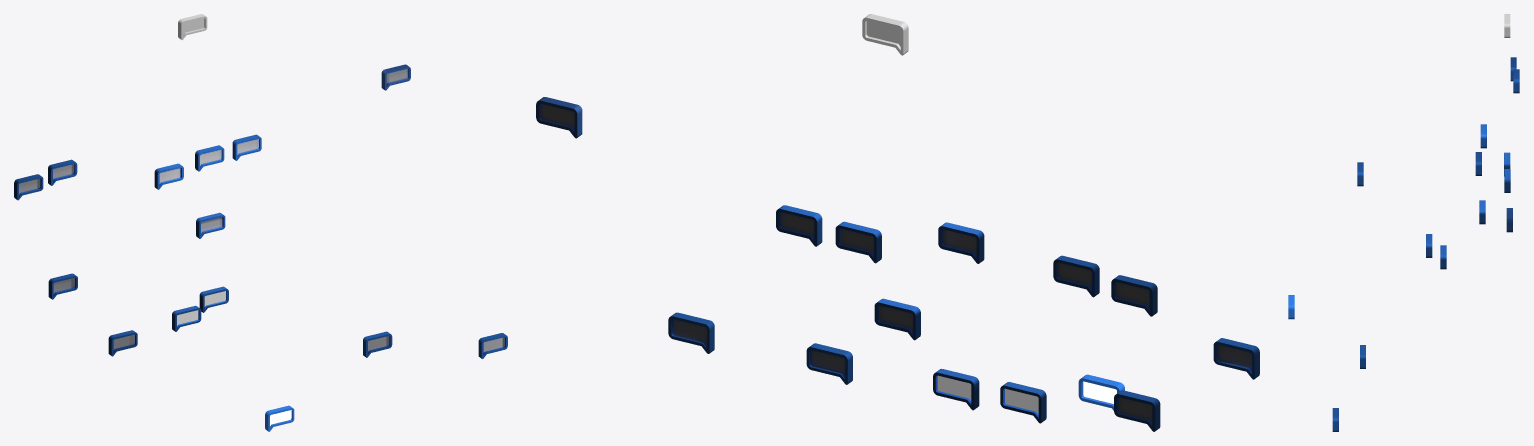
File: pop_up_spotify.glb
The picture shows the model from 3 angles, left to right: view 1: azimuth 30°, elevation 25°; view 2: azimuth 150°, elevation 25°; view 3: azimuth 270°, elevation 25°; orthographic projection. The views are drawn at different scales.
Parts seen in each view (by area): view 1: pop_up_games, pop_up_languages, pop_up_spotify, pop_up_books, pop_up_development, pop_up_social_networks, pop_up_movies, pop_up_running, pop_up_share_knowledge, pop_up_art, pop_up_photography_right, pop_up_stereoscopy (+3 smaller); view 2: pop_up_stereoscopy, pop_up_languages, pop_up_art, pop_up_spotify, pop_up_contact_me, pop_up_travel, pop_up_photography_left, pop_up_books, pop_up_photography_right, pop_up_share_knowledge, pop_up_games, pop_up_development (+3 smaller); view 3: no part large enough to name.
Boxes of the visible parts, left/top/right/bottom form: pop_up_games: left=108, top=330, right=137, bottom=356; pop_up_languages: left=381, top=64, right=410, bottom=90; pop_up_spotify: left=48, top=273, right=77, bottom=299; pop_up_books: left=232, top=134, right=261, bottom=160; pop_up_development: left=196, top=212, right=225, bottom=238; pop_up_social_networks: left=154, top=163, right=183, bottom=189; pop_up_movies: left=195, top=145, right=224, bottom=171; pop_up_running: left=265, top=405, right=294, bottom=431; pop_up_share_knowledge: left=363, top=331, right=392, bottom=357; pop_up_art: left=14, top=174, right=43, bottom=200; pop_up_photography_right: left=478, top=333, right=507, bottom=358; pop_up_stereoscopy: left=199, top=286, right=228, bottom=312; pop_up_stereoscopy: left=933, top=368, right=979, bottom=410; pop_up_languages: left=536, top=97, right=582, bottom=138; pop_up_art: left=1111, top=275, right=1157, bottom=316; pop_up_spotify: left=1114, top=390, right=1160, bottom=431; pop_up_contact_me: left=1000, top=382, right=1046, bottom=423; pop_up_travel: left=862, top=14, right=908, bottom=55; pop_up_photography_left: left=1053, top=255, right=1099, bottom=297; pop_up_books: left=776, top=205, right=822, bottom=246; pop_up_photography_right: left=668, top=312, right=714, bottom=353; pop_up_share_knowledge: left=806, top=343, right=852, bottom=384; pop_up_games: left=1213, top=338, right=1259, bottom=379; pop_up_development: left=874, top=298, right=920, bottom=340.
Size of the model in its own units: 34.1 by 26.5 by 17.78.
15 materials, 14 textured.
